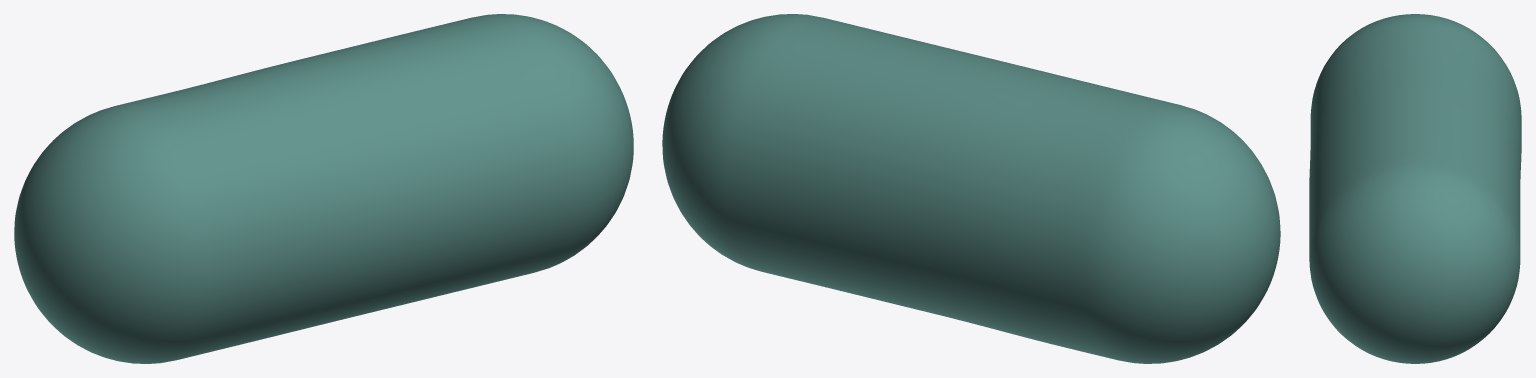
The model's file is cyanobacterium-shells.glb.
3 renders of one model, left to right at view 1: azimuth 30°, elevation 25°; view 2: azimuth 150°, elevation 25°; view 3: azimuth 270°, elevation 25°, orthographic. The views are drawn at different scales.
Visible parts, largest first — view 1: wall; view 2: wall; view 3: wall.
Part boxes in pixels (box(x1,y1,x2,y2)): wall: box(14, 14, 633, 363); wall: box(662, 14, 1280, 363); wall: box(1309, 14, 1521, 363).
Size of the model in its own units: 5.4 by 2.11 by 2.11.
